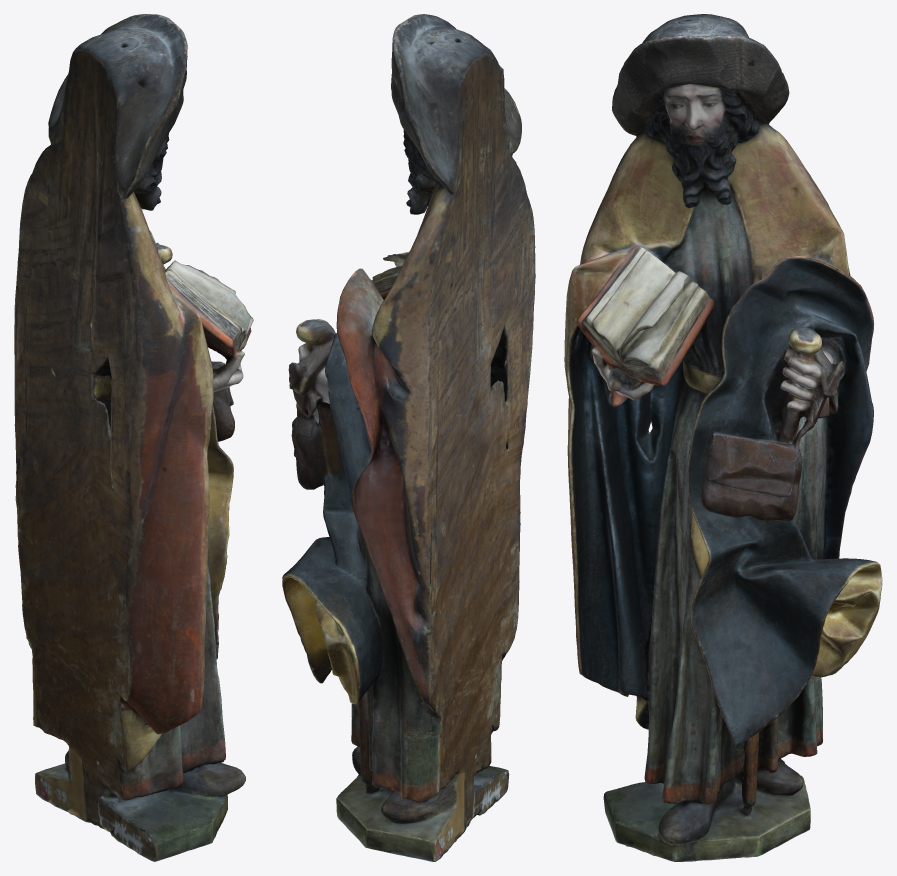
The model's file is SwJakubStaryLOD.fbx.
The picture shows the model from 3 angles, left to right: view 1: azimuth 30°, elevation 25°; view 2: azimuth 150°, elevation 25°; view 3: azimuth 270°, elevation 25°; orthographic projection. The views are drawn at different scales.
Parts seen in each view (by area): view 1: SwJakubStary_LOD0; view 2: SwJakubStary_LOD0; view 3: SwJakubStary_LOD0.
Boxes of the visible parts, x1,y1,x2,y2 form: SwJakubStary_LOD0: [14, 14, 253, 861]; SwJakubStary_LOD0: [282, 14, 535, 861]; SwJakubStary_LOD0: [564, 14, 882, 861].
Size of what is drawn, in the model's own units: 0.352 by 1.65 by 0.5902.
1 material, 1 textured.
